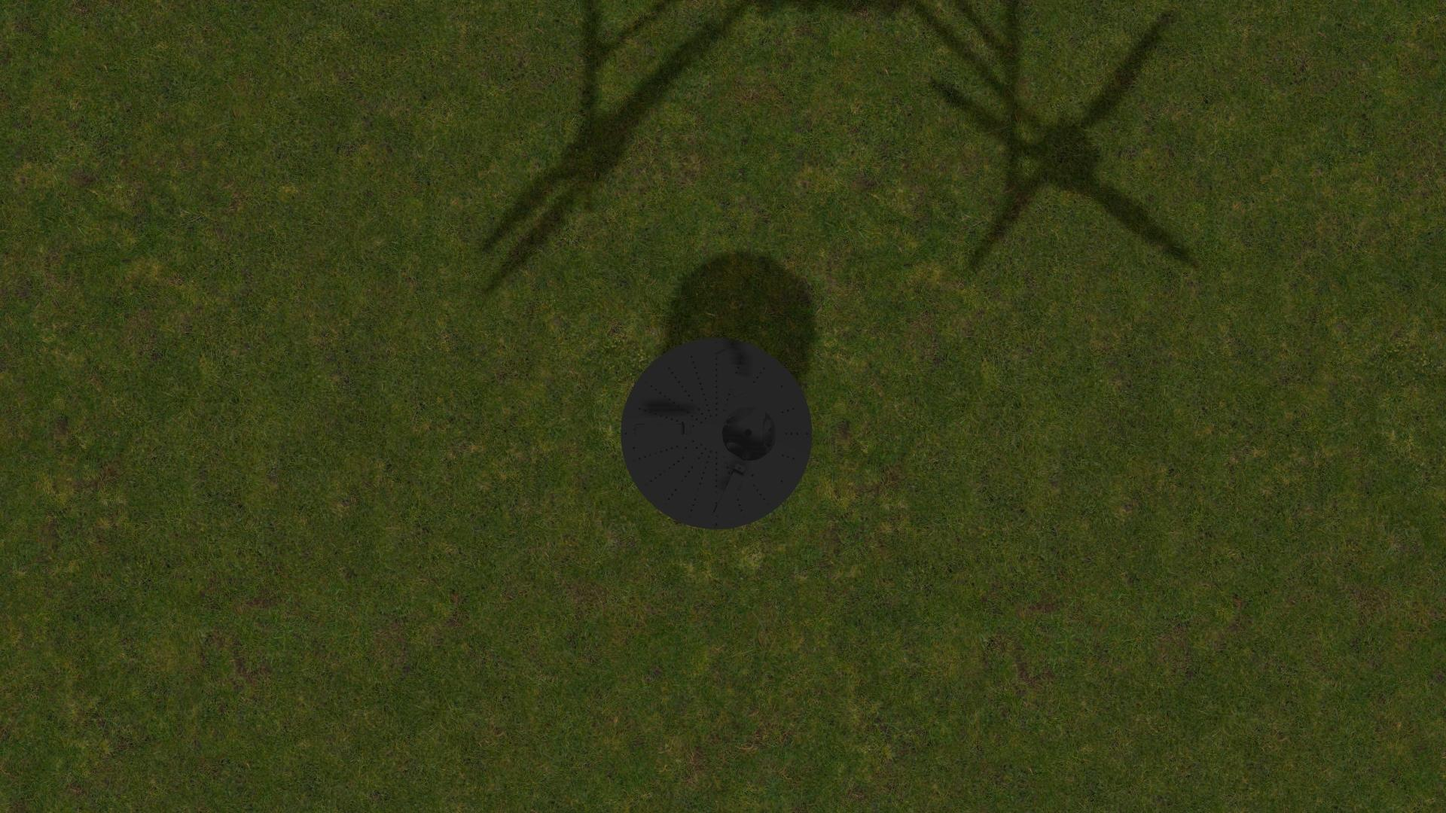alca: (710, 462, 747, 522), (713, 345, 747, 402), (631, 423, 691, 437)
armadilha: (620, 338, 813, 530)
